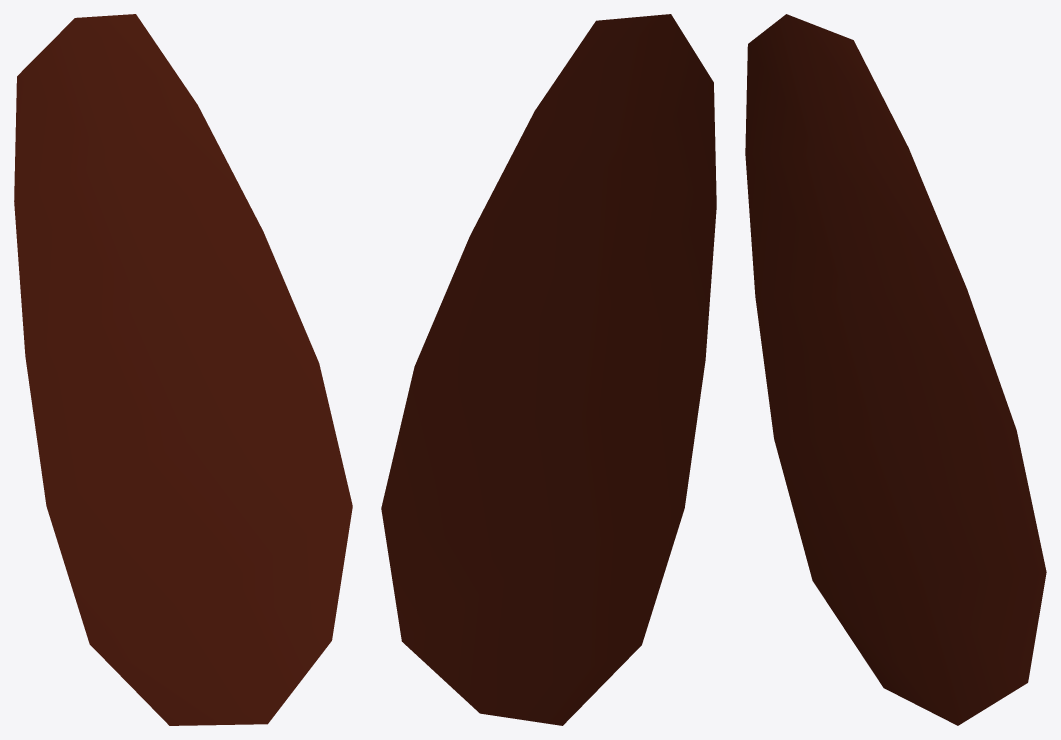
File: finch_feather_flight_tertiary_018.obj
3 renders of one model, left to right at view 1: azimuth 30°, elevation 25°; view 2: azimuth 150°, elevation 25°; view 3: azimuth 330°, elevation 25°, orthographic. The views are drawn at different scales.
Visible parts, largest first — view 1: feather_flight_tertiary_018; view 2: feather_flight_tertiary_018; view 3: feather_flight_tertiary_018.
Boxes of the visible parts, x1=… form: feather_flight_tertiary_018: x1=14, y1=14, x2=352, y2=725; feather_flight_tertiary_018: x1=381, y1=14, x2=716, y2=725; feather_flight_tertiary_018: x1=745, y1=14, x2=1046, y2=725.
Bounding box in the file's own units: 0.00405 × 0.00861 × 0.000152.
